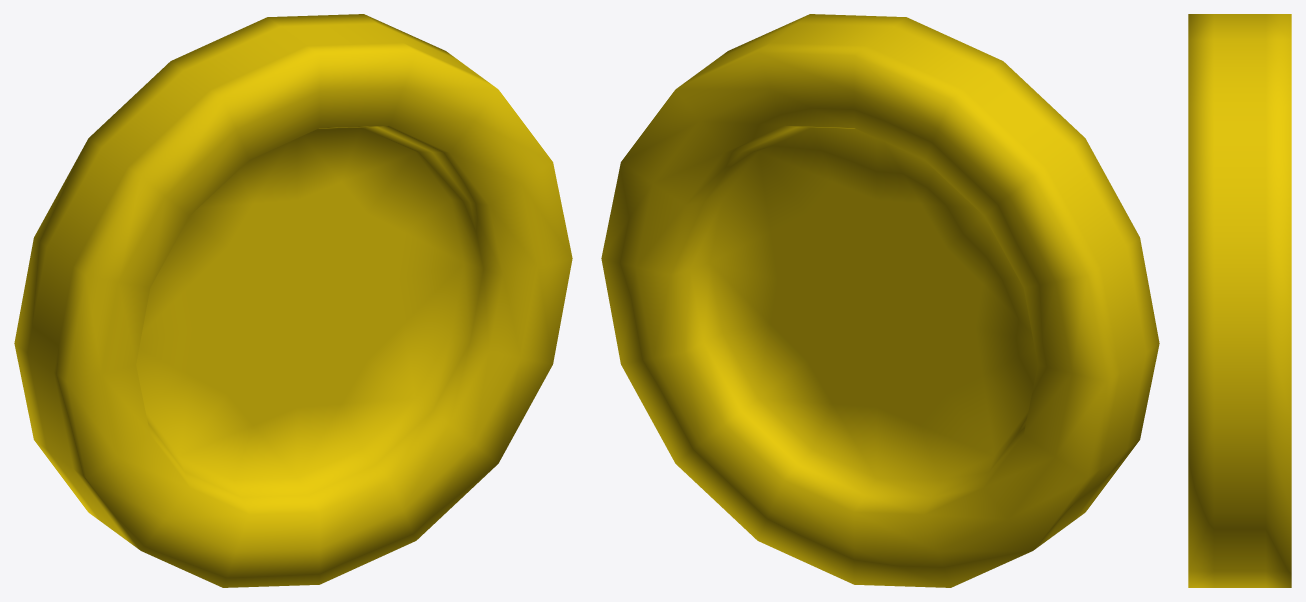
Rendered from coin.fbx.
3 renders of one model, left to right at view 1: azimuth 30°, elevation 25°; view 2: azimuth 150°, elevation 25°; view 3: azimuth 270°, elevation 25°, orthographic.
Visible parts, largest first — view 1: Coin; view 2: Coin; view 3: Coin.
Boxes of the visible parts, x1,y1,x2,y2 form: Coin: [14, 14, 572, 587]; Coin: [601, 14, 1159, 587]; Coin: [1188, 14, 1291, 587].
Size of the model in its own units: 0.8743 by 0.8743 by 0.1571.
